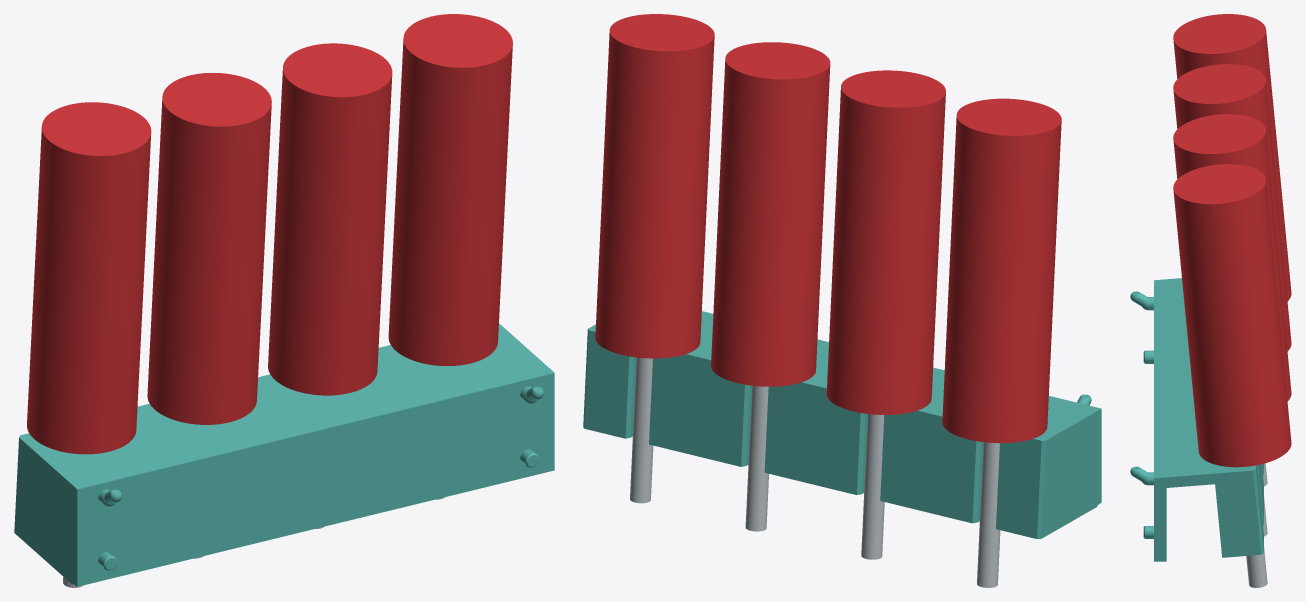
Rendered from part-mh03-magnetic-shaft-holder-8mm-round__v1__loaded.glb.
The picture shows the model from 3 angles, left to right: view 1: azimuth 30°, elevation 25°; view 2: azimuth 150°, elevation 25°; view 3: azimuth 270°, elevation 25°; orthographic projection. The views are drawn at different scales.
Parts seen in each view (by area): view 1: handles-reference, Actual holder mesh; view 2: handles-reference, Actual holder mesh, shafts-reference; view 3: handles-reference, Actual holder mesh, shafts-reference.
Part boxes in pixels (x1,y1,x2,y2): handles-reference: (27,14,512,454); Actual holder mesh: (14,323,554,586); handles-reference: (595,14,1061,443); Actual holder mesh: (583,311,1101,539); shafts-reference: (630,357,1000,587); handles-reference: (1173,14,1291,467); Actual holder mesh: (1130,278,1263,561); shafts-reference: (1246,463,1267,587).
Bounding box in the file's own units: 0.2012 × 0.1914 × 0.0691.
